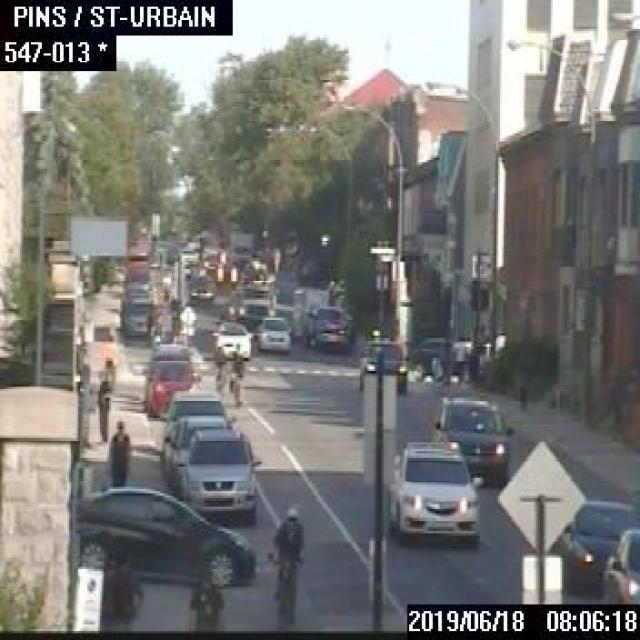cyclist: (267, 504, 304, 620)
pedestrian: (109, 551, 136, 625), (187, 569, 220, 629), (105, 418, 131, 484), (228, 341, 245, 403), (210, 342, 227, 397), (96, 371, 109, 440), (102, 332, 115, 387)
vehicle: (69, 486, 253, 586), (388, 438, 483, 542), (173, 426, 261, 525), (549, 497, 638, 594), (430, 393, 512, 485), (160, 413, 236, 489), (159, 390, 236, 464), (140, 356, 203, 416), (232, 254, 276, 327), (602, 526, 638, 604), (355, 337, 406, 392), (303, 302, 353, 350), (411, 333, 461, 374), (140, 342, 192, 376), (211, 320, 251, 358), (252, 314, 290, 352), (120, 298, 148, 337), (186, 274, 214, 302), (220, 292, 233, 320)
